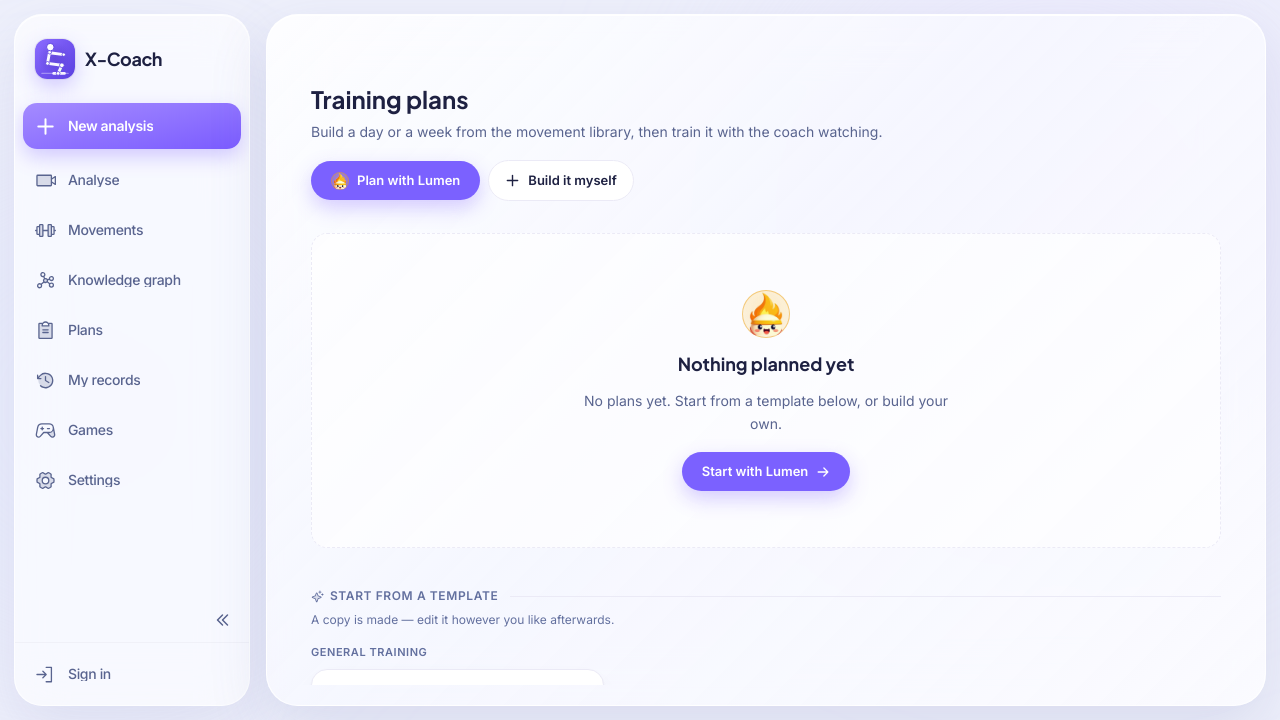
Test: Plans — blank create › refuses to submit an empty name
The width and height of the screenshot is (1280, 720).
Click the button "Build it myself" at (561, 181), box [488, 160, 634, 201]
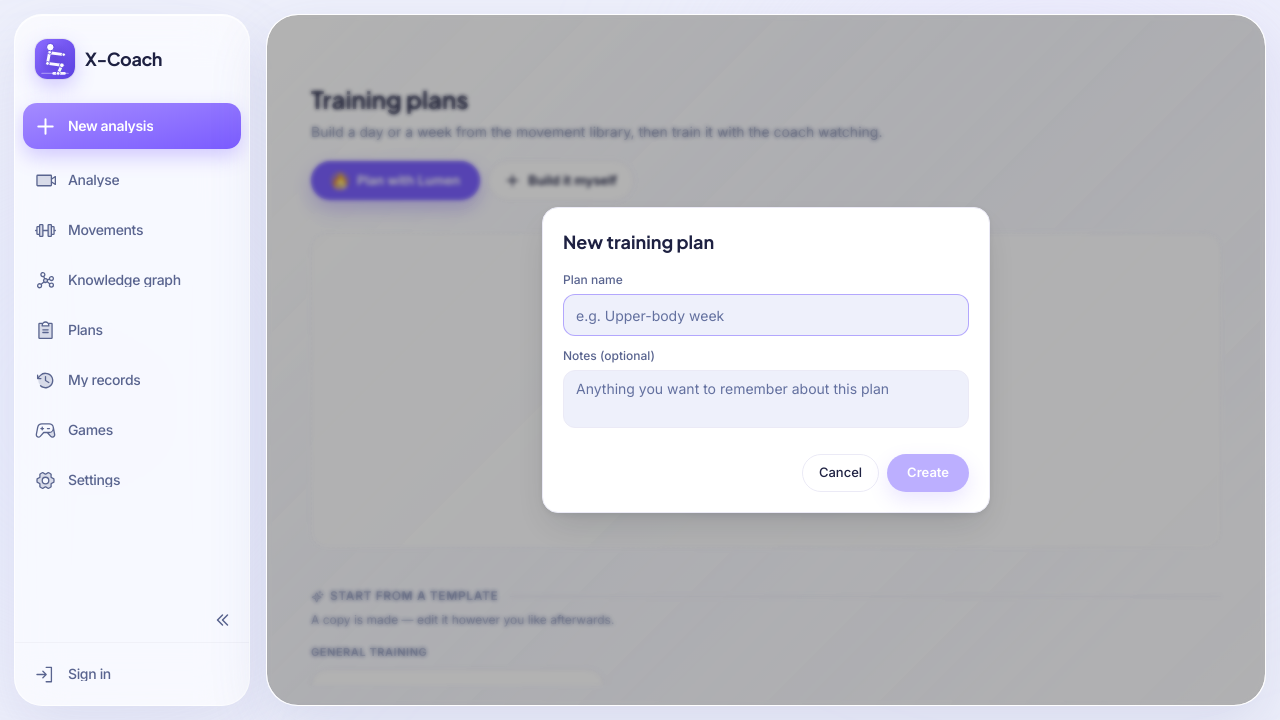
Now the button "Create" is disabled, box [887, 454, 969, 492]
